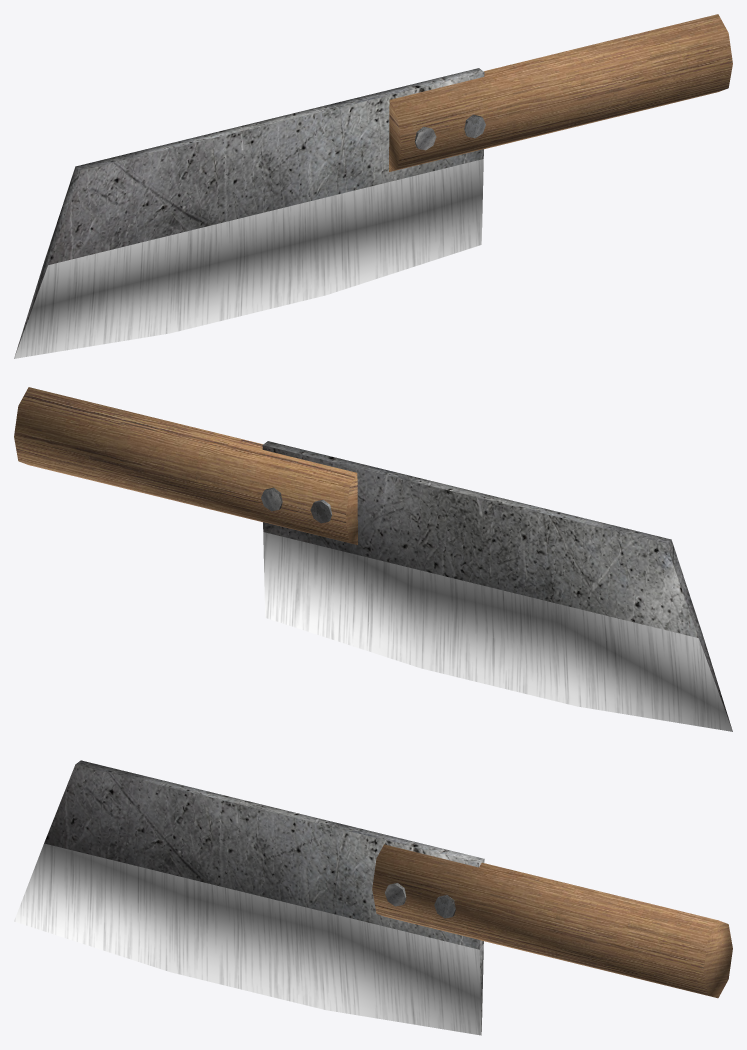
File: Knife1.fbx
3 views of the same model, one above another, from view 1: azimuth 30°, elevation 25°; view 2: azimuth 150°, elevation 25°; view 3: azimuth 330°, elevation 25° (orthographic).
Visible parts, largest first — view 1: Cube.010; view 2: Cube.010; view 3: Cube.010.
Boxes of the visible parts, x1,y1,x2,y2 form: Cube.010: (14, 14, 732, 358); Cube.010: (14, 387, 732, 731); Cube.010: (14, 760, 732, 1035).
Bounding box in the file's own units: 32.07 × 2.43 × 8.15.
Materials: 3 (3 with a texture image).
